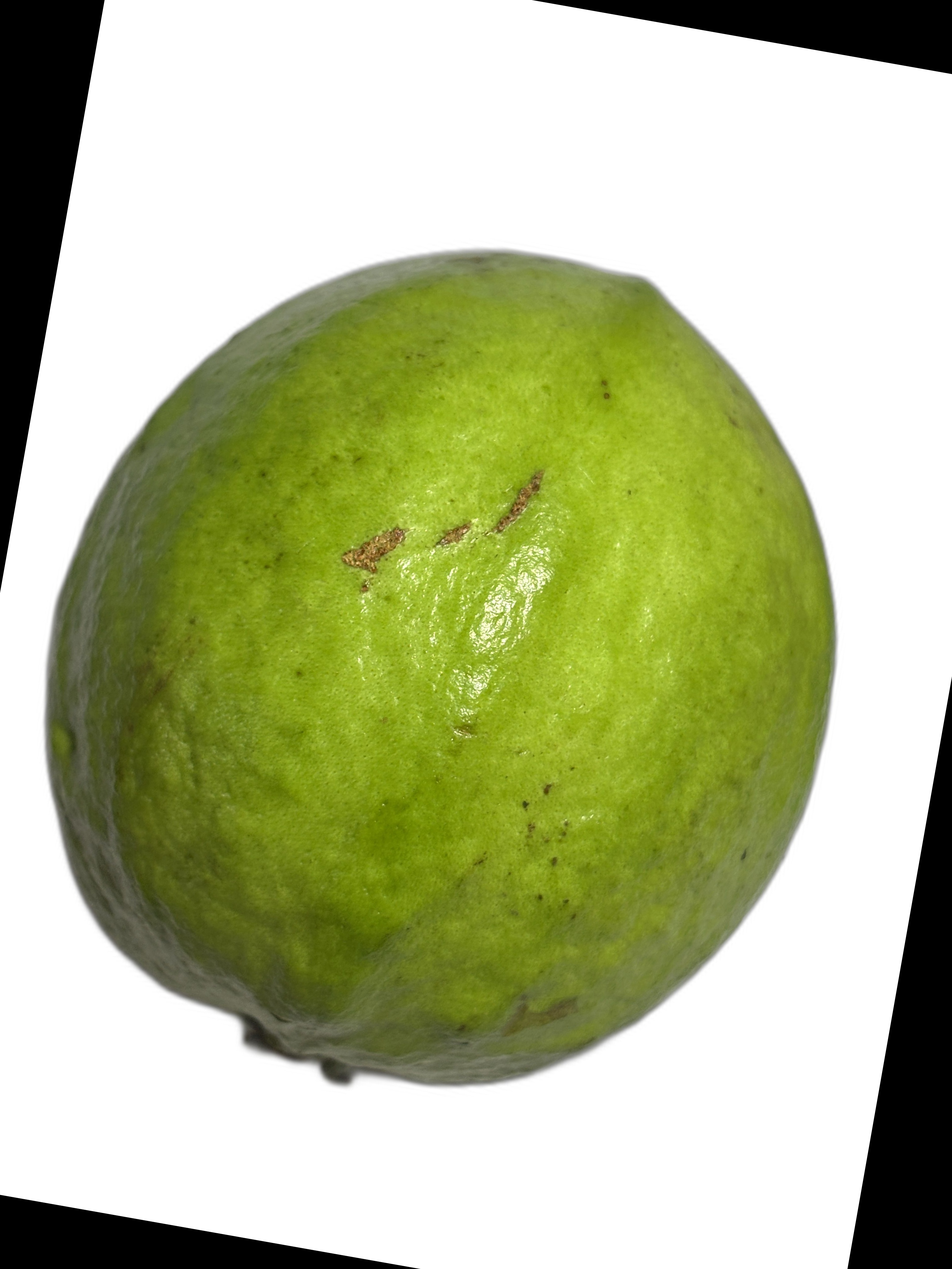guava: (49, 114, 714, 916)
